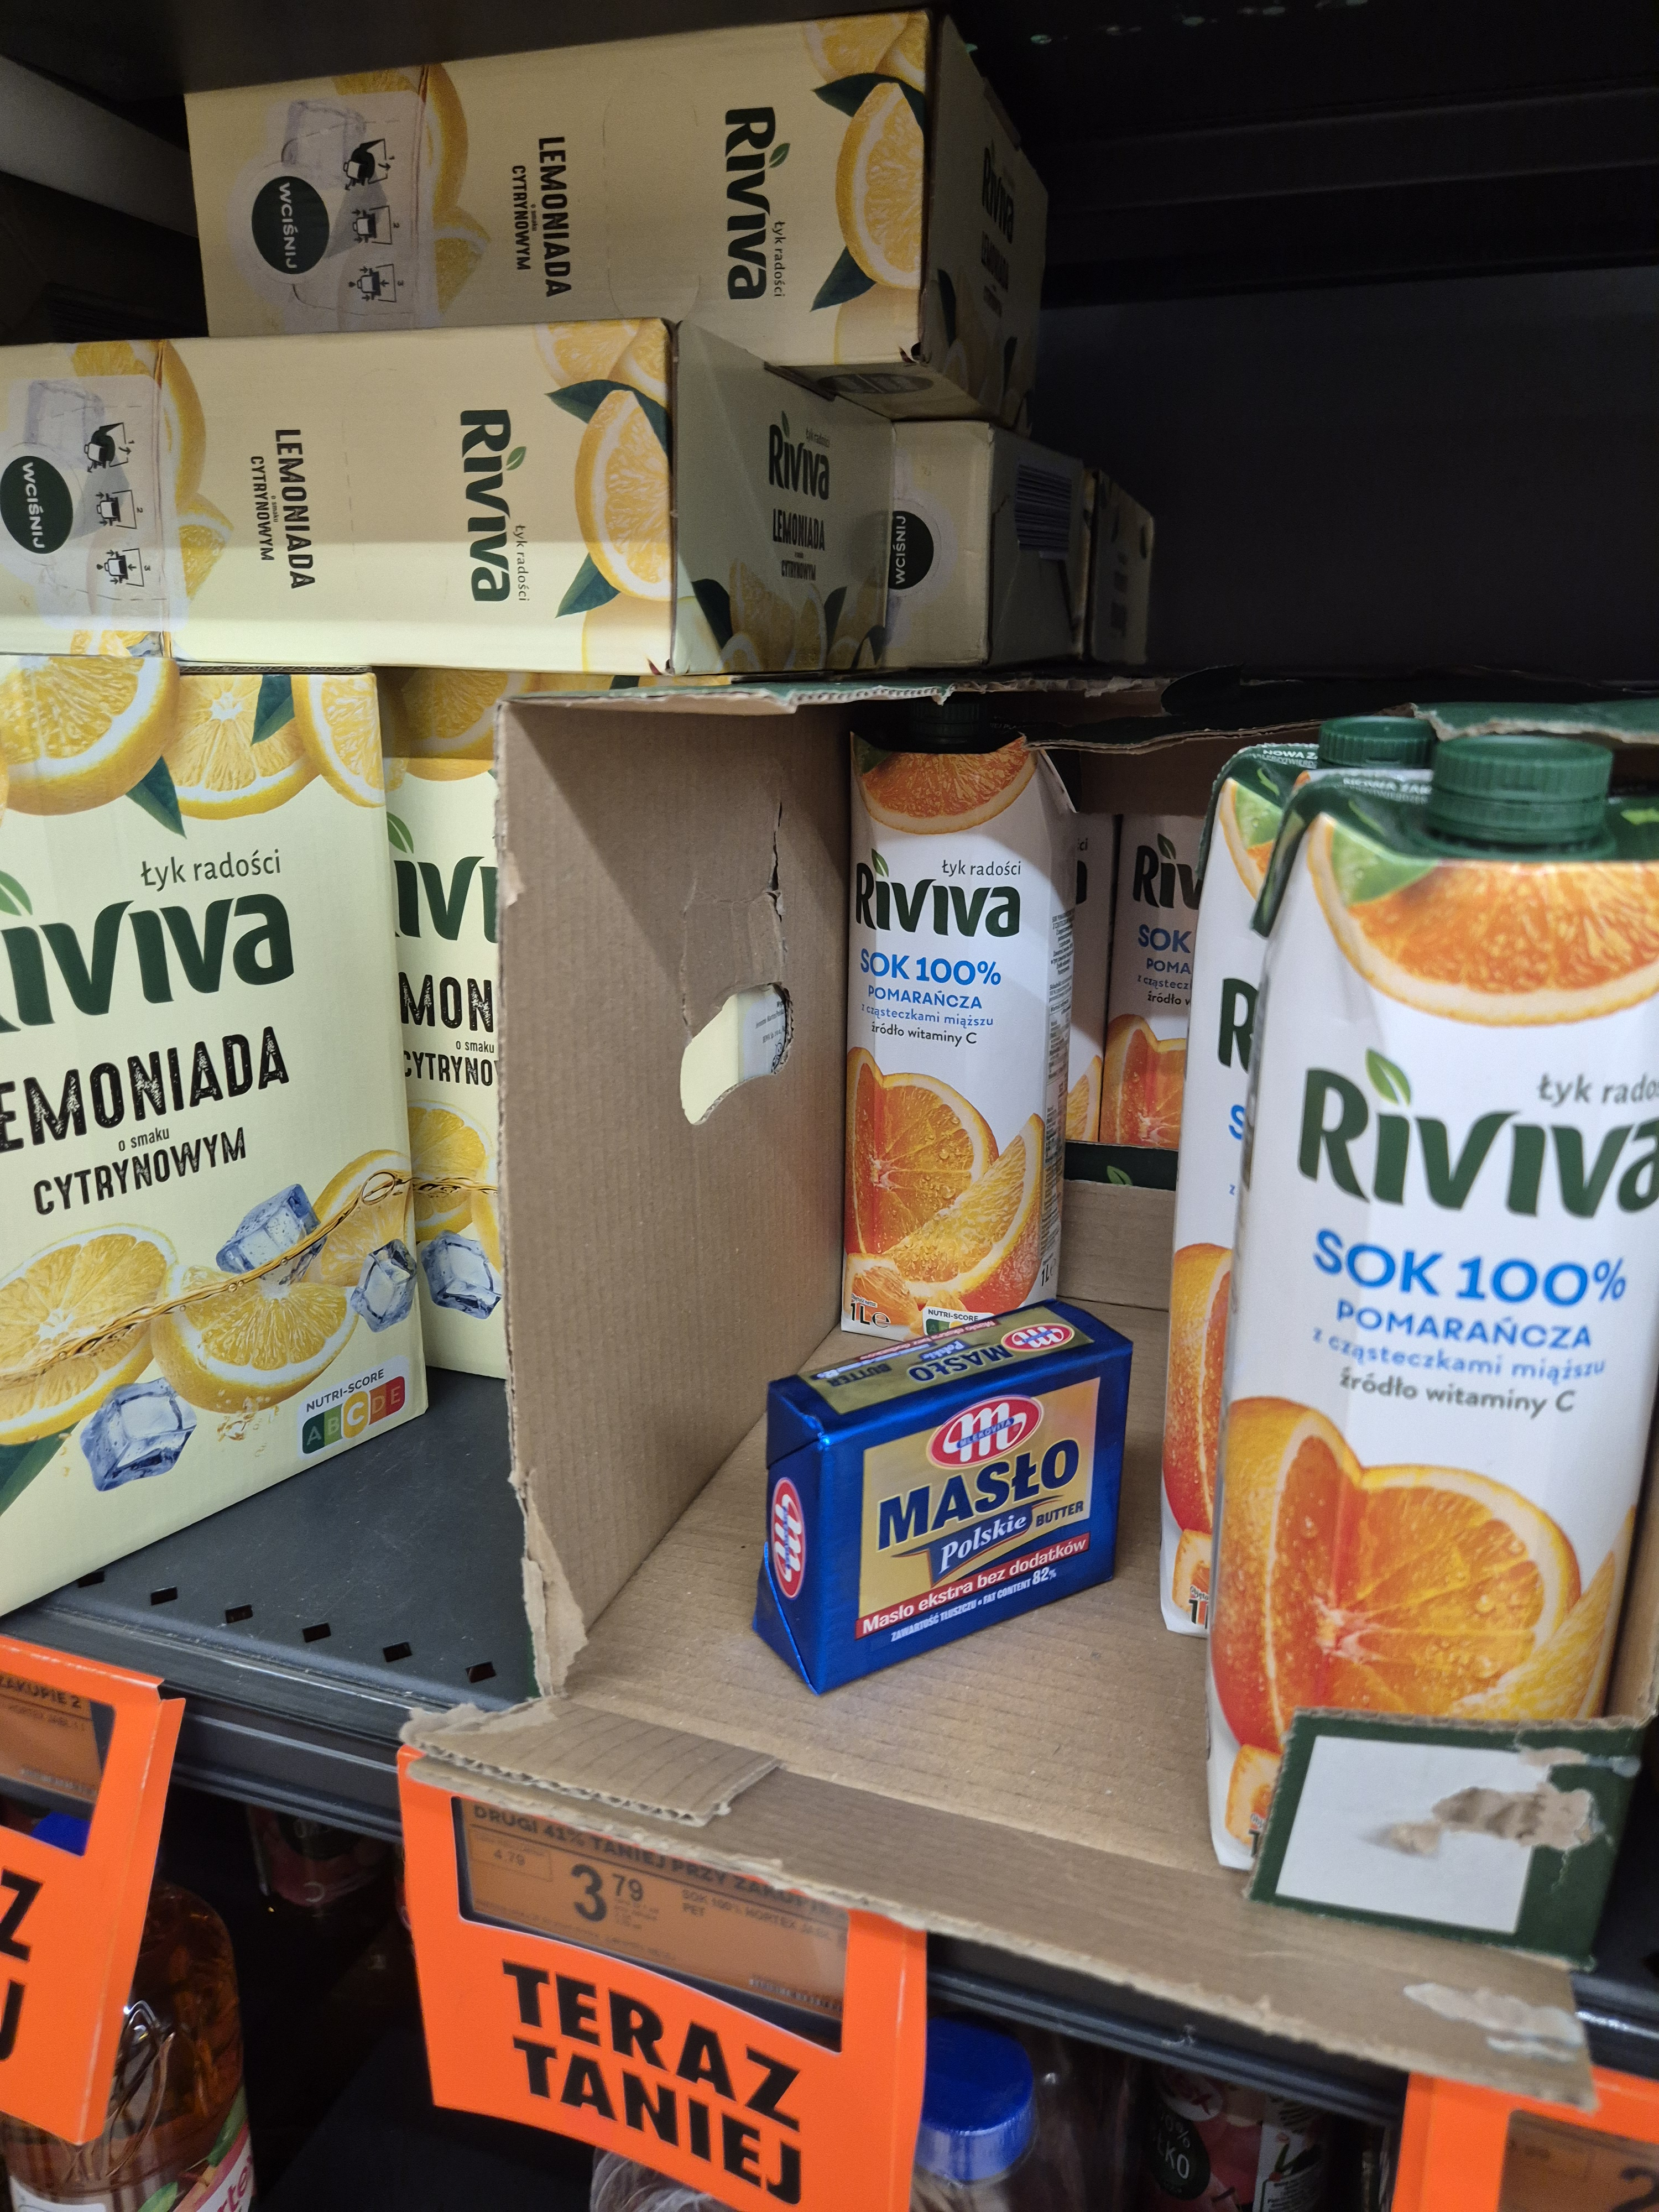Butter: (744, 1298, 1145, 1665)
